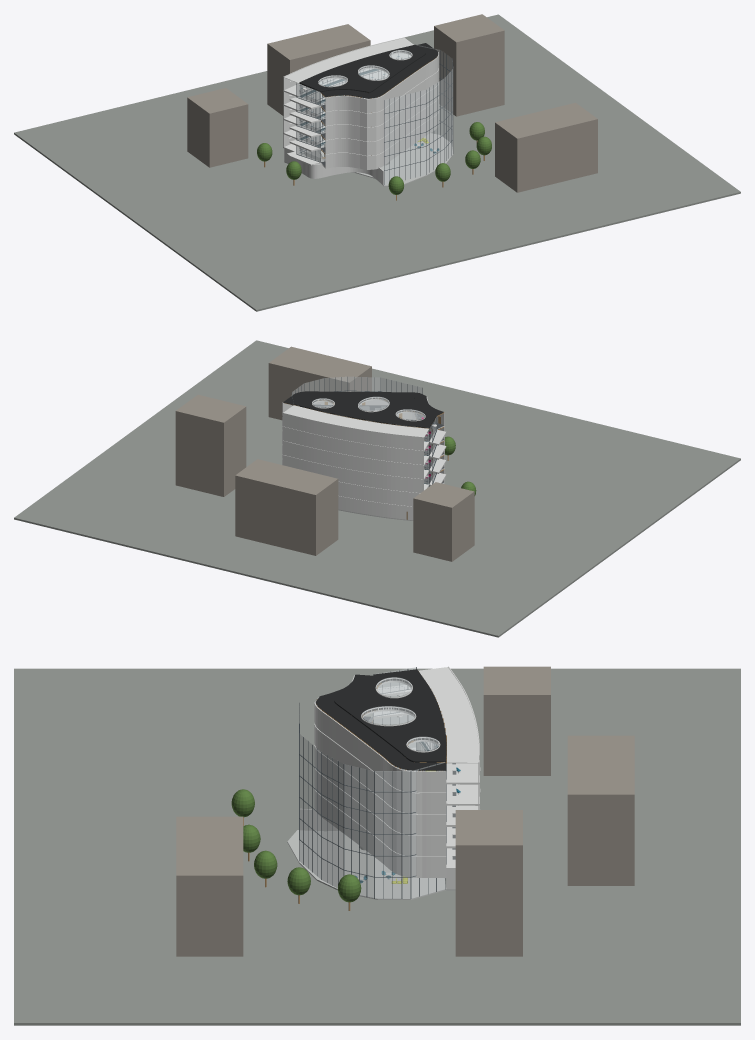
The model's file is ISEC.glb.
3 renders of one model, top to bottom at view 1: azimuth 30°, elevation 25°; view 2: azimuth 150°, elevation 25°; view 3: azimuth 270°, elevation 25°, orthographic. The views are drawn at different scales.
Visible parts, largest first — view 1: WEB Exterior paving, WEB Warm white painted steel and plaster, WEB Clear architectural glazing, WEB Context masonry 35, WEB Context masonry 40, WEB Context masonry -35, WEB Context masonry 5, WEB Ceiling acoustic backing, WEB Charcoal mullions, WEB Pale grey terrazzo; view 2: WEB Exterior paving, WEB Warm white painted steel and plaster, WEB Context masonry 5, WEB Context masonry 40, WEB Context masonry -35, WEB Context masonry 35, WEB Ceiling acoustic backing, WEB Clear architectural glazing, WEB Charcoal mullions; view 3: WEB Exterior paving, WEB Warm white painted steel and plaster, WEB Clear architectural glazing, WEB Context masonry 5, WEB Context masonry 40, WEB Context masonry 35, WEB Context masonry -35, WEB Ceiling acoustic backing, WEB Pale grey terrazzo, WEB Charcoal mullions.
Part boxes in pixels (<box>): WEB Exterior paving: <box>14,14,740,311</box>; WEB Warm white painted steel and plaster: <box>283,37,438,185</box>; WEB Clear architectural glazing: <box>296,45,453,184</box>; WEB Context masonry 35: <box>495,102,597,192</box>; WEB Context masonry 40: <box>434,14,504,116</box>; WEB Context masonry -35: <box>187,88,248,167</box>; WEB Context masonry 5: <box>267,24,370,115</box>; WEB Ceiling acoustic backing: <box>299,43,438,151</box>; WEB Charcoal mullions: <box>296,46,453,184</box>; WEB Pale grey terrazzo: <box>284,133,453,186</box>; WEB Exterior paving: <box>14,340,740,637</box>; WEB Warm white painted steel and plaster: <box>282,397,446,520</box>; WEB Context masonry 5: <box>235,459,338,555</box>; WEB Context masonry 40: <box>175,394,246,496</box>; WEB Context masonry -35: <box>413,482,474,561</box>; WEB Context masonry 35: <box>268,346,371,420</box>; WEB Ceiling acoustic backing: <box>283,391,443,429</box>; WEB Clear architectural glazing: <box>292,376,436,483</box>; WEB Charcoal mullions: <box>292,377,437,486</box>; WEB Exterior paving: <box>14,668,740,1025</box>; WEB Warm white painted steel and plaster: <box>300,666,480,889</box>; WEB Clear architectural glazing: <box>299,667,444,898</box>; WEB Context masonry 5: <box>567,735,634,885</box>; WEB Context masonry 40: <box>455,810,522,956</box>; WEB Context masonry 35: <box>176,816,243,956</box>; WEB Context masonry -35: <box>483,666,550,775</box>; WEB Ceiling acoustic backing: <box>315,669,446,770</box>; WEB Pale grey terrazzo: <box>287,830,455,899</box>; WEB Charcoal mullions: <box>299,667,446,898</box>.
Bounding box in the file's own units: 150 × 26.25 × 130.
